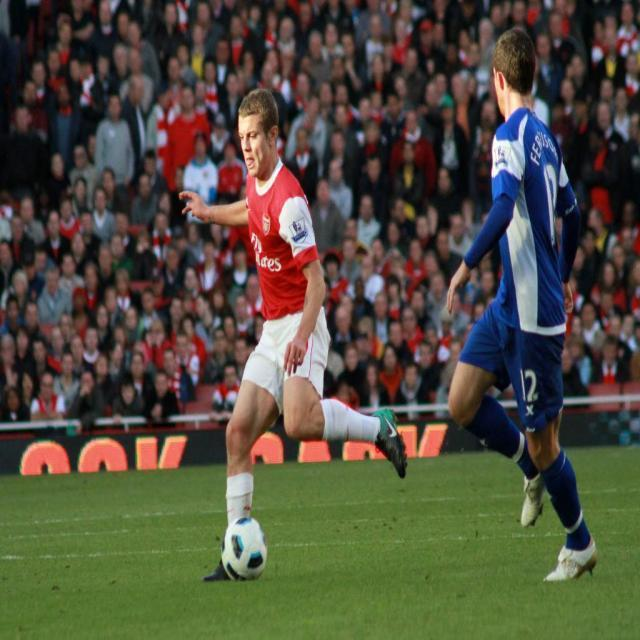football: (195, 499, 284, 579)
